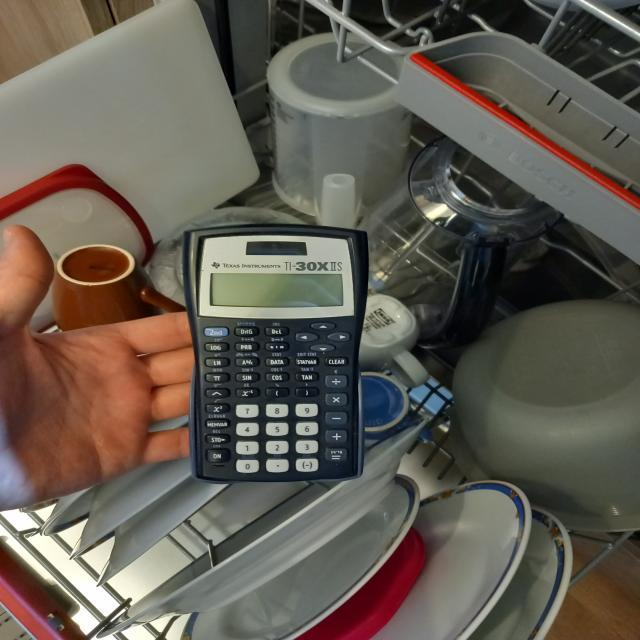Calculator: (181, 223, 369, 485)
